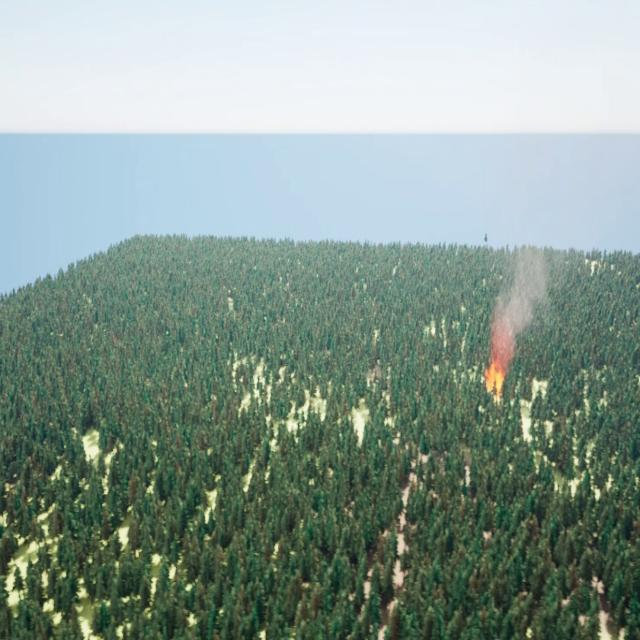smoke: (488, 240, 552, 360), (484, 359, 504, 402)
